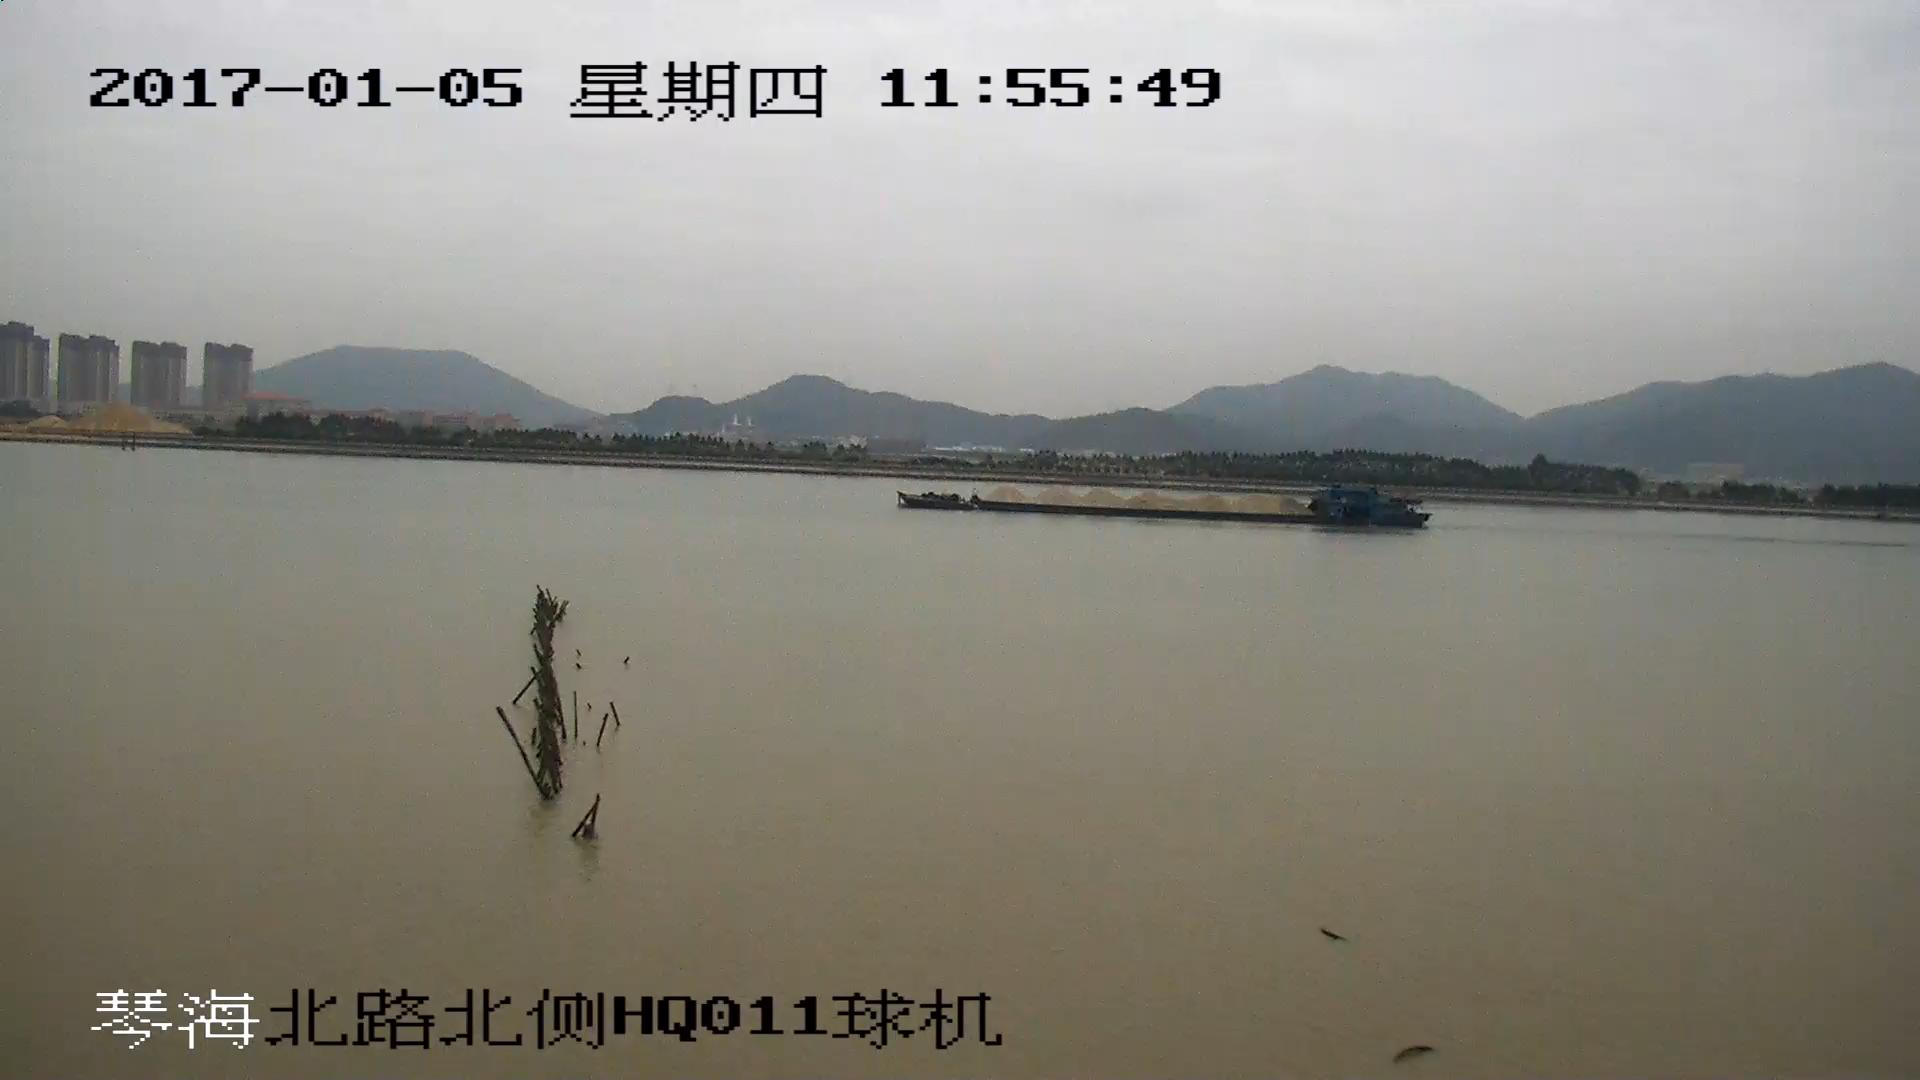ore carrier: (900, 484, 1430, 534)
